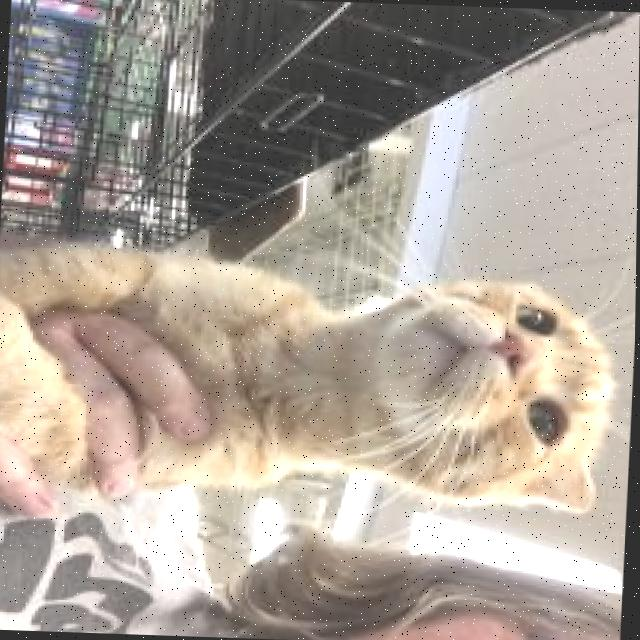Scottish Fold: (0, 233, 627, 518)
